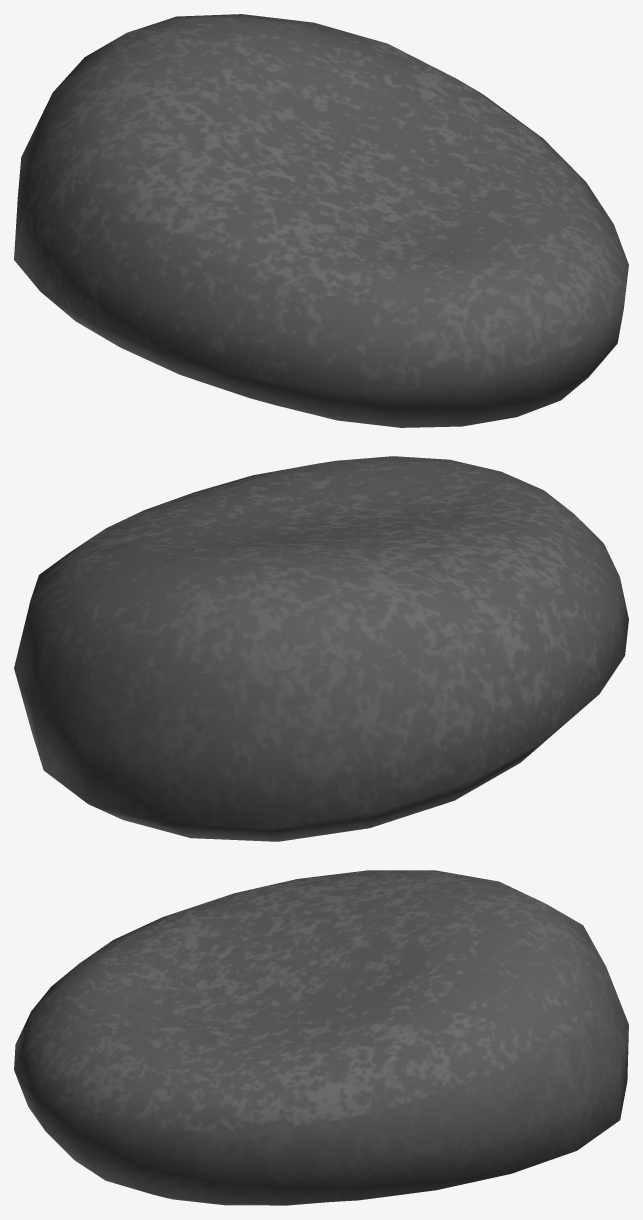
File: Rock1.fbx
The picture shows the model from 3 angles, top to bottom: view 1: azimuth 30°, elevation 25°; view 2: azimuth 150°, elevation 25°; view 3: azimuth 270°, elevation 25°; orthographic projection. The views are drawn at different scales.
Visible parts, largest first — view 1: SM_Flat_Rock_03:Mesh; view 2: SM_Flat_Rock_03:Mesh; view 3: SM_Flat_Rock_03:Mesh.
Part boxes in pixels (x1,y1,x2,y2): SM_Flat_Rock_03:Mesh: (14, 14, 628, 427); SM_Flat_Rock_03:Mesh: (14, 456, 628, 841); SM_Flat_Rock_03:Mesh: (14, 870, 628, 1205).
Bounding box in the file's own units: 20.12 × 9.96 × 25.03.
1 material, 1 textured.
